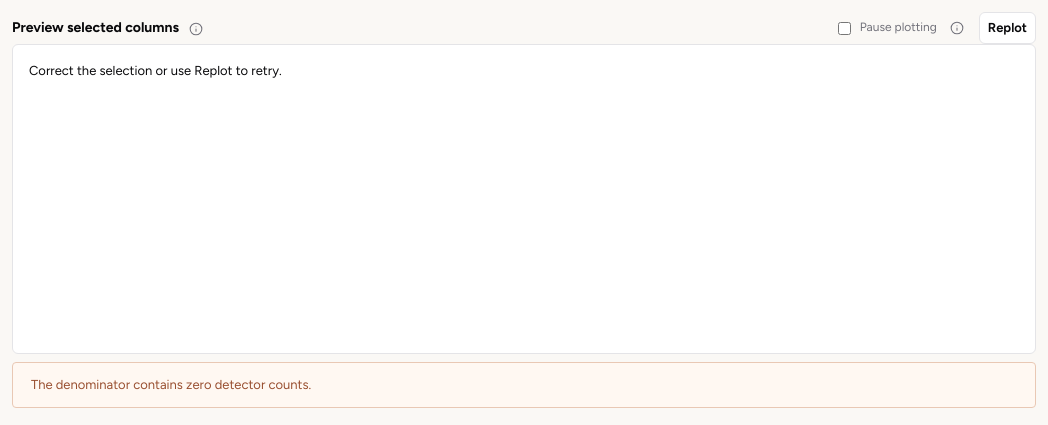
Test: live column preview › hides the preceding curve while updating, reports failures, and retries the same selection
Expected: the message shows "zero detector counts", [31, 377, 311, 392]
Click the button "Replot".
click(1007, 28)  # box [979, 12, 1036, 44]
Wait 180 ms
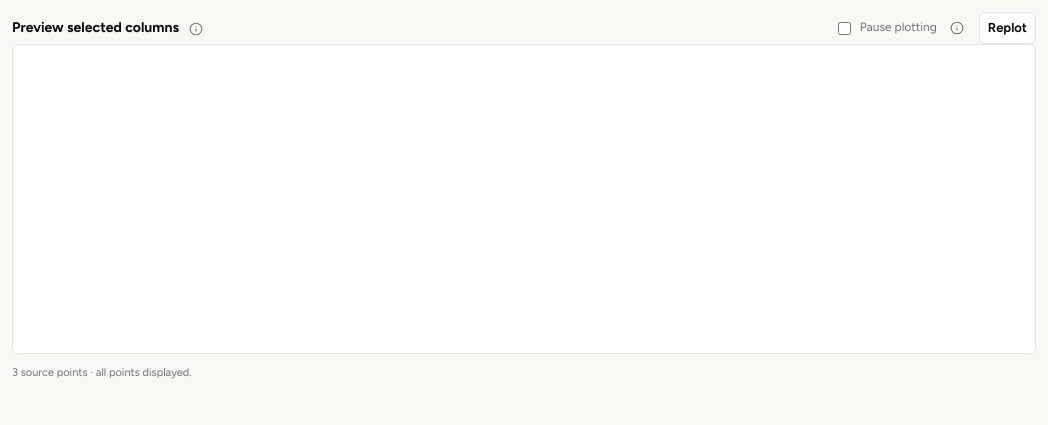
Result: the message "The denominator contains zero detector counts." is gone
